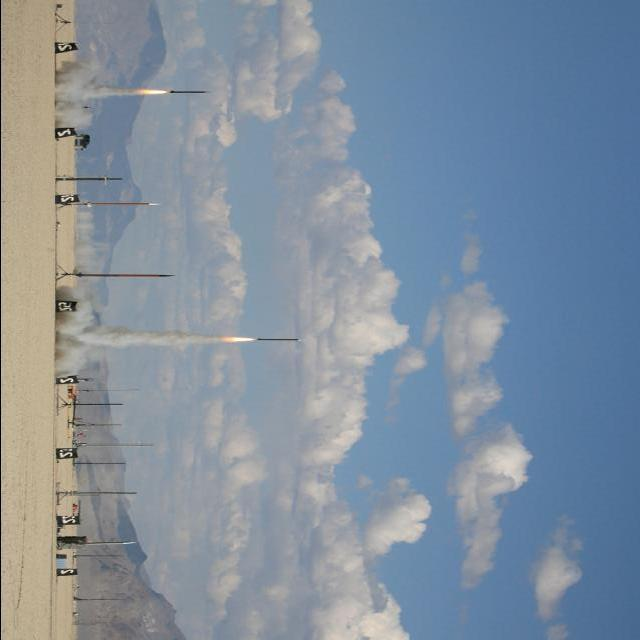missile: (169, 83, 210, 101), (258, 334, 304, 344)
